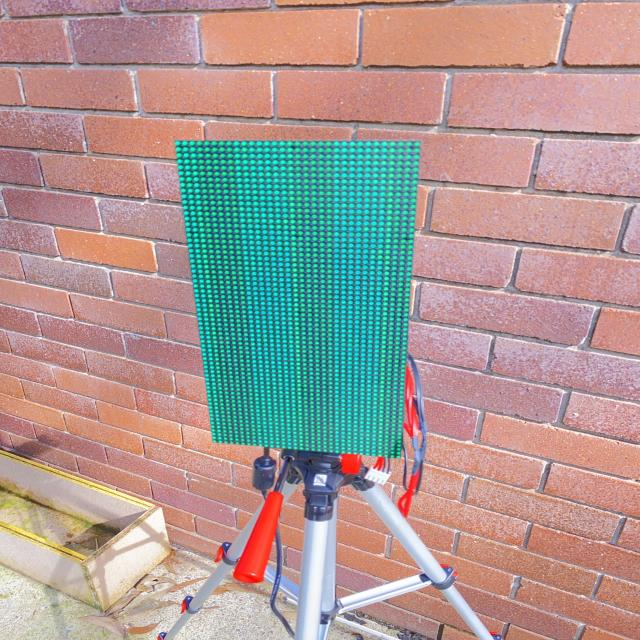matrix: (161, 123, 443, 474)
